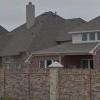Chimney: (20, 0, 39, 31)
